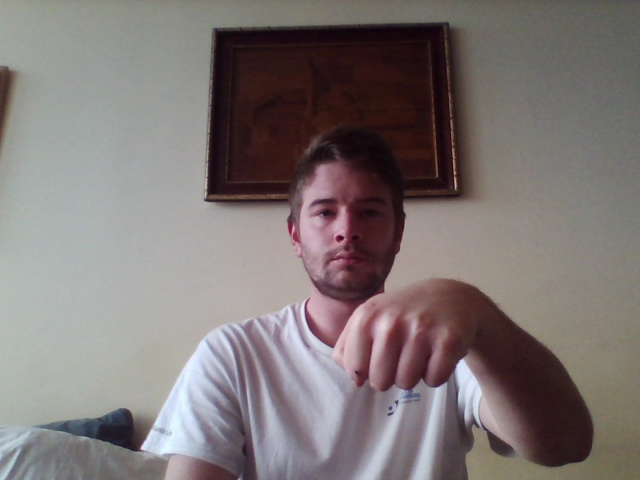da: (332, 282, 471, 393)
